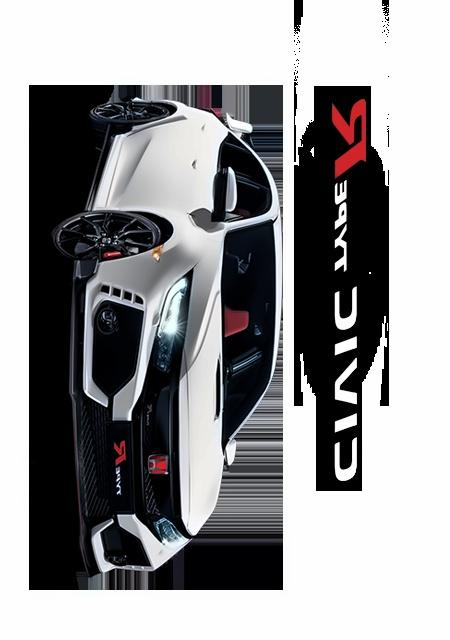Car hood: (178, 237, 227, 538)
Driver-s door - -F-R-: (89, 159, 278, 230)
Fender - -R-R-: (122, 101, 221, 139)
Front bumper: (67, 256, 156, 582)
Headlight - -L-: (141, 511, 197, 557)
Headlight - -R-: (149, 268, 193, 380)
Passenger-s door - -R-R-: (105, 119, 260, 157)
Rear bumper: (126, 89, 165, 108)
Rear light - -R-: (199, 101, 232, 125)
Side bumper - -R-: (81, 116, 124, 220)
Side mirror - -L-: (218, 433, 242, 470)
Side mirror - -R-: (210, 163, 241, 224)
